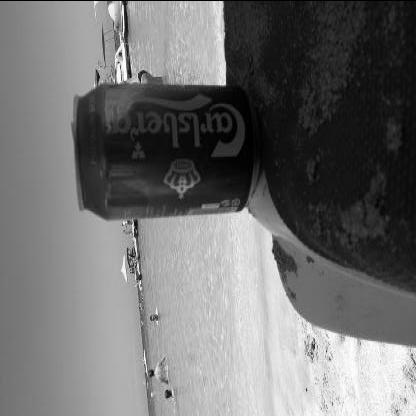alumunium_can: (69, 78, 262, 220)
